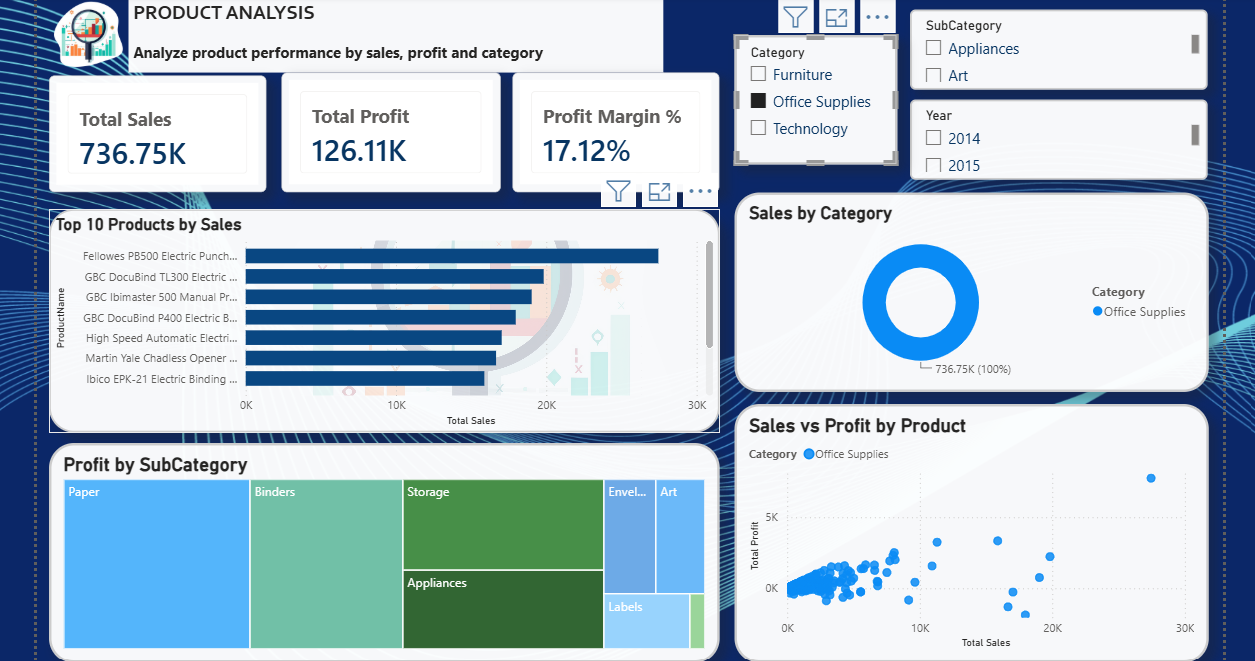

What the dashboard file says about the page in this screenshot:
{"tool":"powerbi","page":{"name":"Product Analysis","canvas":[1280,720],"ordinal":1},"visuals":[{"type":"textbox","box":[98.6,0,577.4,82.7],"z":0},{"type":"image","box":[12.7,0,85.9,82.7],"z":1000},{"type":"cardVisual","fields":{"Data":["FactSales.Total Sales"]},"box":[13,85.8,234.8,126.3],"z":2000},{"type":"cardVisual","fields":{"Data":["FactSales.Total Profit"]},"box":[263.9,82.6,236.4,129.5],"z":3000},{"type":"cardVisual","fields":{"Data":["FactSales.Profit Margin %"]},"box":[513.3,82.6,223.5,129.5],"z":4000},{"type":"clusteredBarChart","title":"Top 10 Products by Sales","fields":{"Category":["DimProduct.ProductName"],"Y":["FactSales.Total Sales"]},"box":[13,229.9,723.8,241.3],"z":5000},{"type":"donutChart","title":"Sales by Category","fields":{"Category":["DimProduct.Category"],"Y":["FactSales.Total Sales"]},"box":[752.1,211.7,512.1,215.4],"z":6000},{"type":"treemap","title":"Profit by SubCategory","fields":{"Group":["DimProduct.SubCategory"],"Values":["FactSales.Total Profit"]},"box":[13,482.5,723.8,238],"z":7000},{"type":"scatterChart","title":"Sales vs Profit by Product","fields":{"X":["FactSales.Total Sales"],"Y":["FactSales.Total Profit"],"Category":["DimProduct.ProductName"],"Series":["DimProduct.Category"]},"box":[752.1,440.3,512.1,279.7],"z":8000},{"type":"slicer","fields":{"Values":["DimProduct.Category"]},"box":[752.1,41.6,175.7,139.8],"z":9000},{"type":"slicer","fields":{"Values":["DimProduct.SubCategory"]},"box":[943,15.1,321.3,86.9],"z":10000},{"type":"slicer","fields":{"Values":["DimDate.Year"]},"box":[943,111.5,321.3,86.9],"z":11000}]}

Visuals, with their boxes on the page's 1280x720 design canvas (x1, y1, x2, y2). These are canvas units, not pixel positions in the 1255x661 screenshot, which may show the page scaled, cropped or inside an application window:
textbox: x1=99 y1=0 x2=676 y2=83
image: x1=13 y1=0 x2=99 y2=83
cardVisual - FactSales.Total Sales: x1=13 y1=86 x2=248 y2=212
cardVisual - FactSales.Total Profit: x1=264 y1=83 x2=500 y2=212
cardVisual - FactSales.Profit Margin %: x1=513 y1=83 x2=737 y2=212
"Top 10 Products by Sales" clusteredBarChart: x1=13 y1=230 x2=737 y2=471
"Sales by Category" donutChart: x1=752 y1=212 x2=1264 y2=427
"Profit by SubCategory" treemap: x1=13 y1=482 x2=737 y2=720
"Sales vs Profit by Product" scatterChart: x1=752 y1=440 x2=1264 y2=720
slicer - DimProduct.Category: x1=752 y1=42 x2=928 y2=181
slicer - DimProduct.SubCategory: x1=943 y1=15 x2=1264 y2=102
slicer - DimDate.Year: x1=943 y1=112 x2=1264 y2=198
